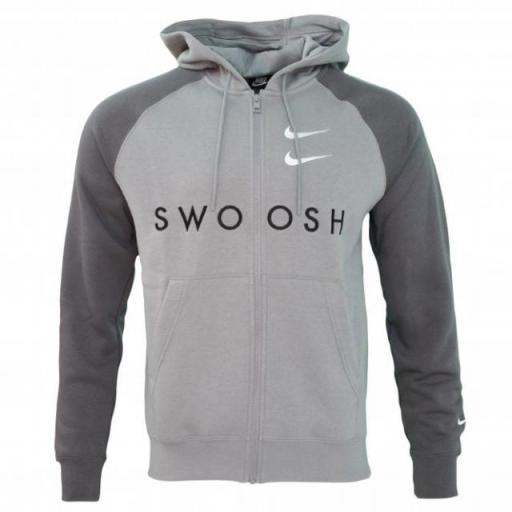Nike: (284, 150, 336, 168)
